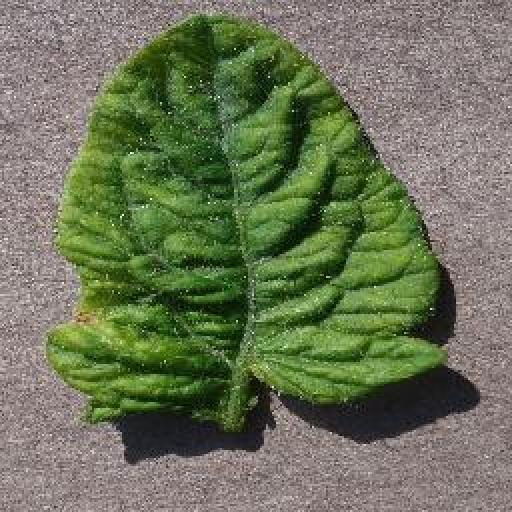disease_tomato: (46, 15, 446, 428)
